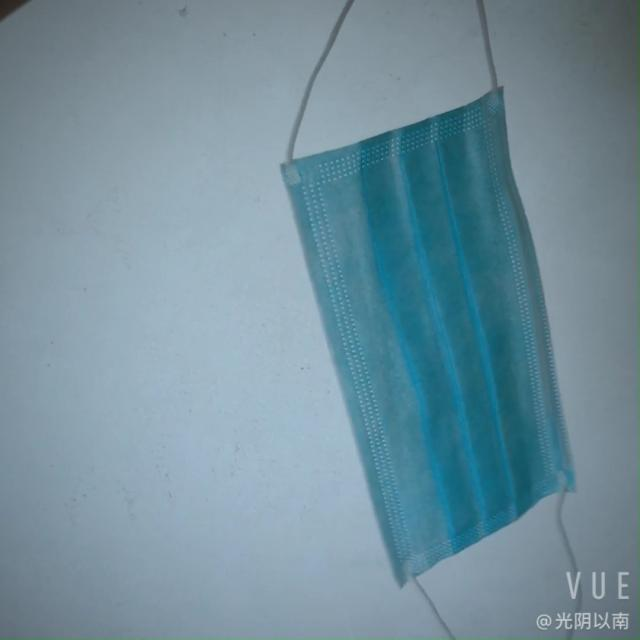face mask: (276, 72, 554, 582)
